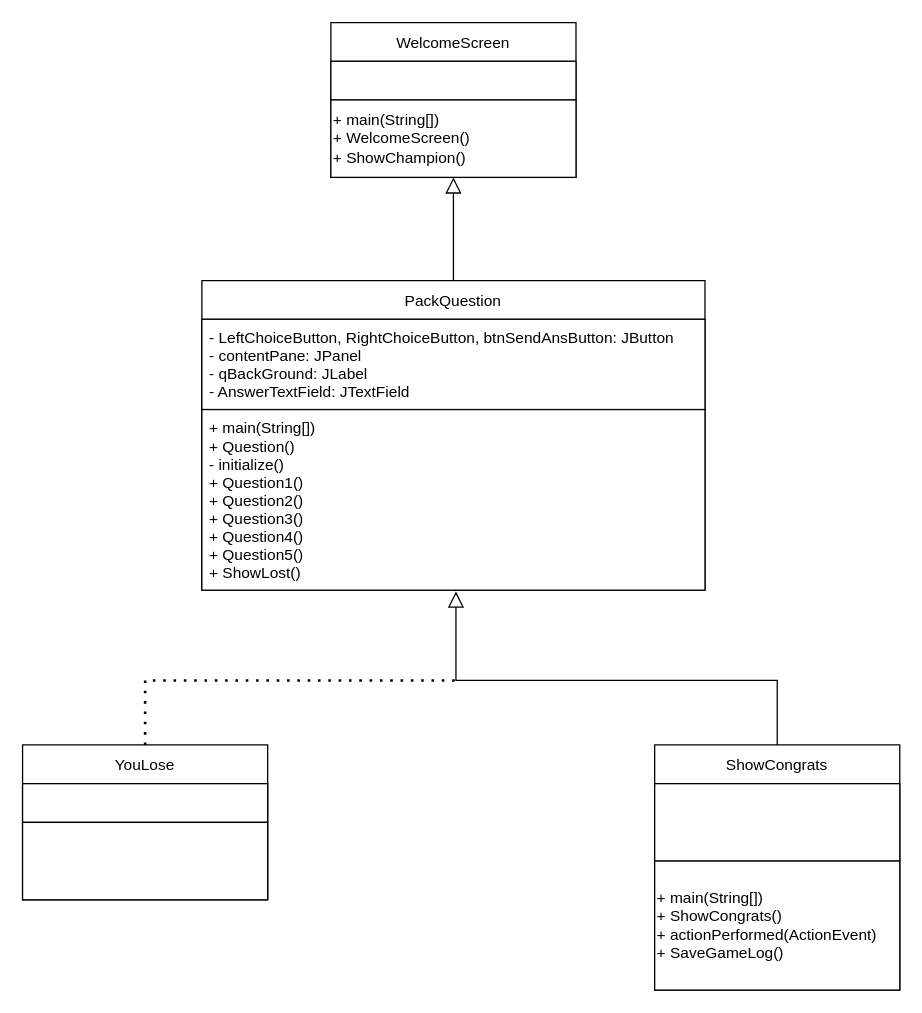
Image size: 922x1013. Some labels were removed from this diagram. The centre of each missing label's shape, as x and y in pixels:
"+ main(String[]) + YouLose()" belongs at point 144,860.
"- contentPane: JPanel" belongs at point 144,802.
"- contentPane: JPanel - ChamptextArea: JTextArea" belongs at point 453,80.
"- contentPane: JPanel - NametextField: JTextField - Winnername: String" belongs at point 776,821.
